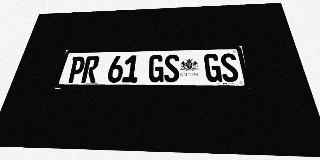1: (122, 55, 139, 83)
6: (107, 55, 125, 83)
G: (204, 54, 223, 82), (148, 55, 164, 82)
P: (66, 56, 86, 83)
R: (81, 56, 100, 83)
S: (219, 53, 240, 82), (164, 54, 180, 82)
